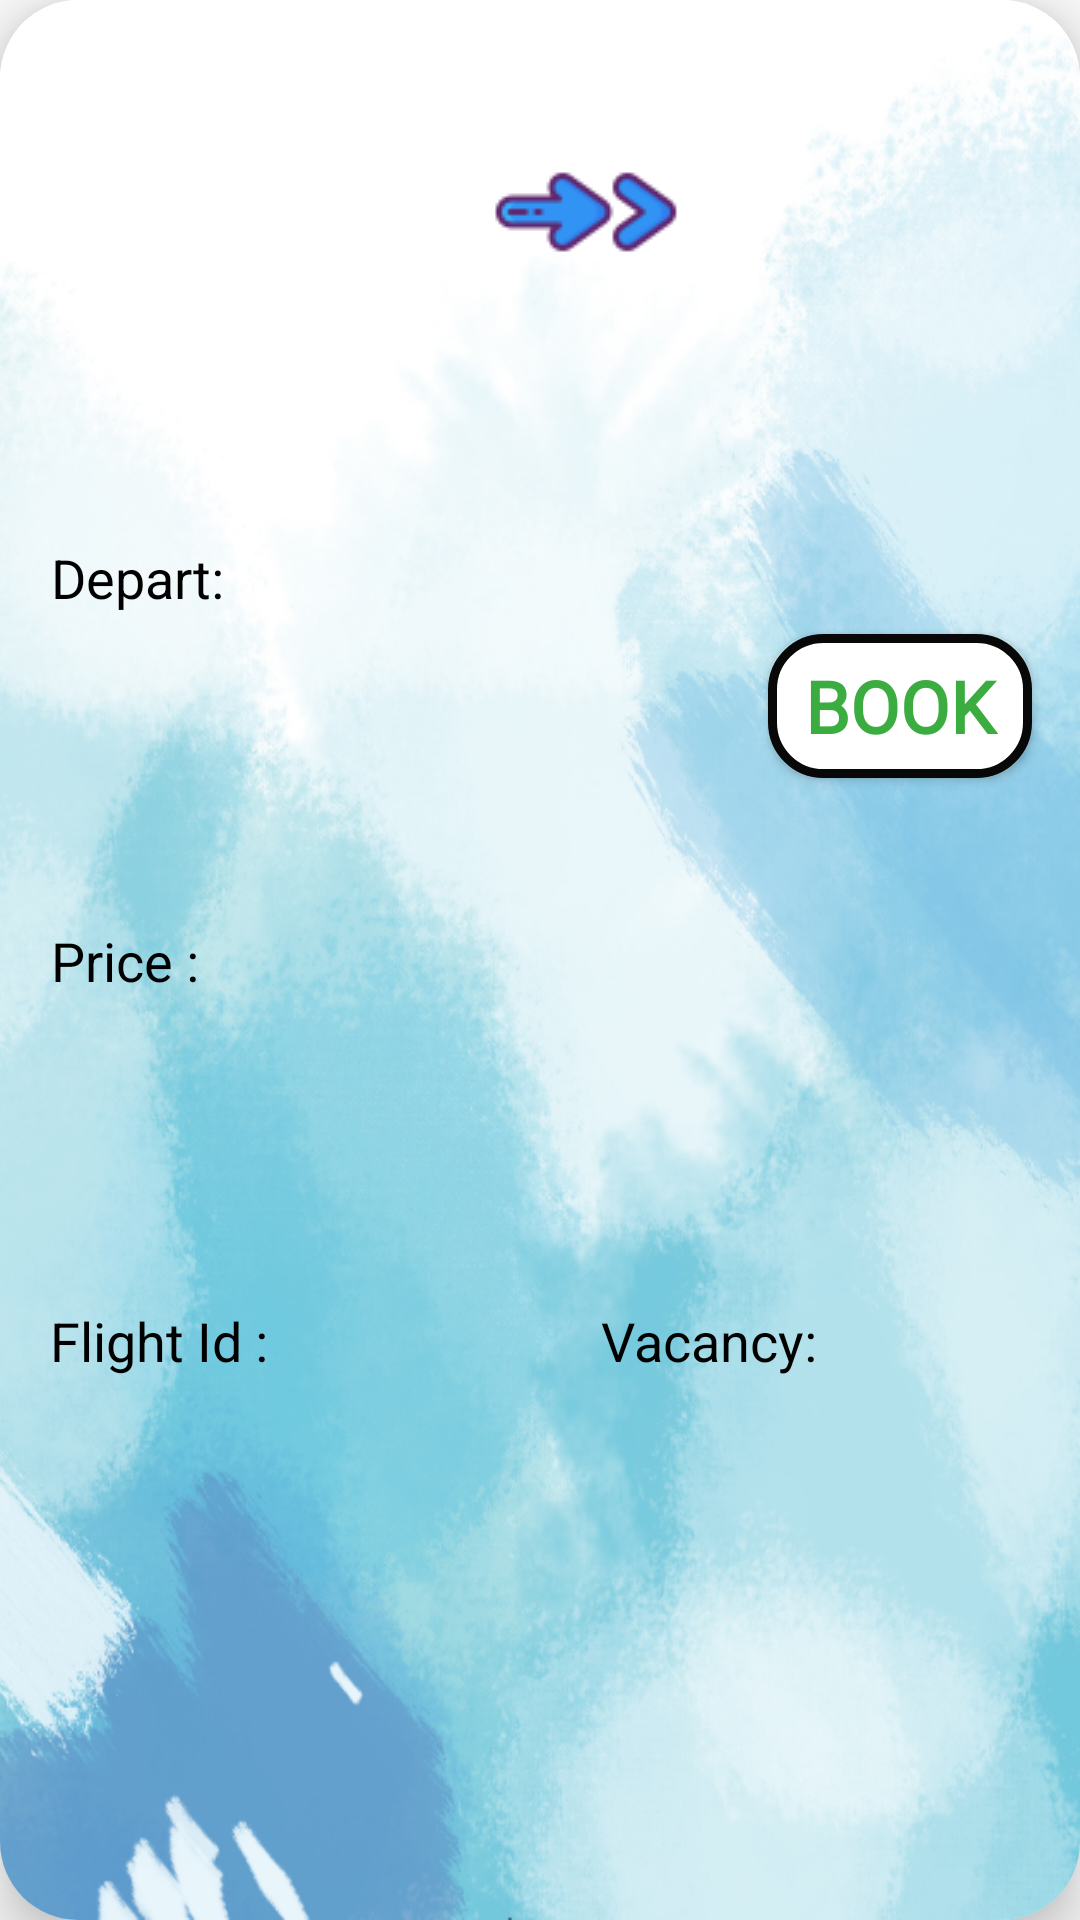

Screen size 1080x1920. Icon name, then its box in pixels as (x1, y1, x2, y2):
right arrow: (495, 172, 677, 252)
